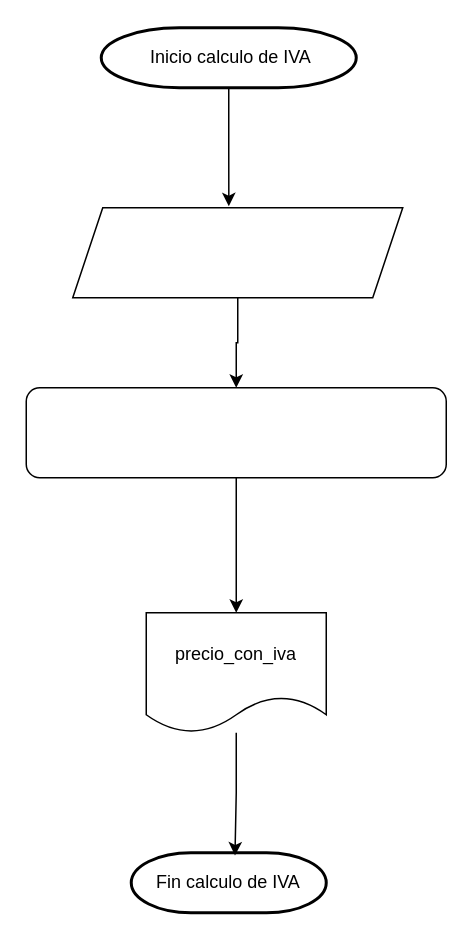
Some shapes in this 473 by 939 pixel diagram are drawn without their labels. The shapes that lost their labels are listed below. From the top down, each one's centre as x and y in pixels, then its label:
At pixel 237 252: "precio".
At pixel 235 432: "precio_con_iva = precio * 1.21".
